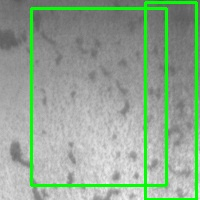patches: (5, 135, 37, 172), (1, 25, 29, 53)
pitted_surface: (31, 8, 166, 185), (145, 2, 196, 199)
